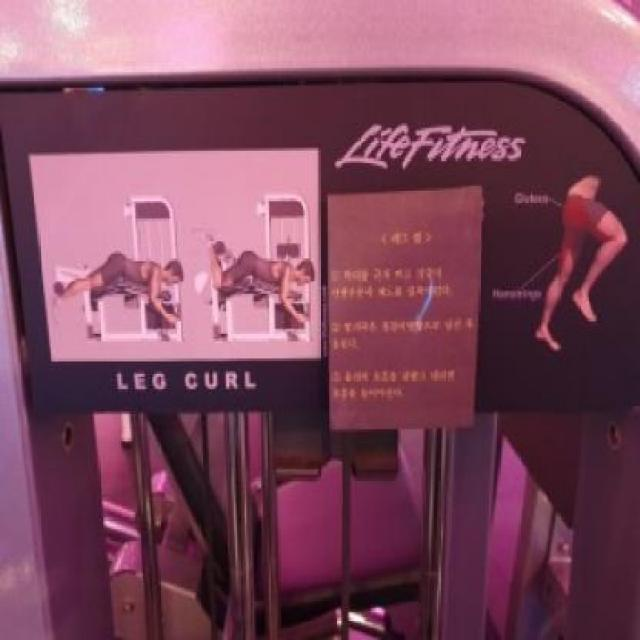reg curl machine: (34, 186, 191, 349), (186, 192, 319, 350)
